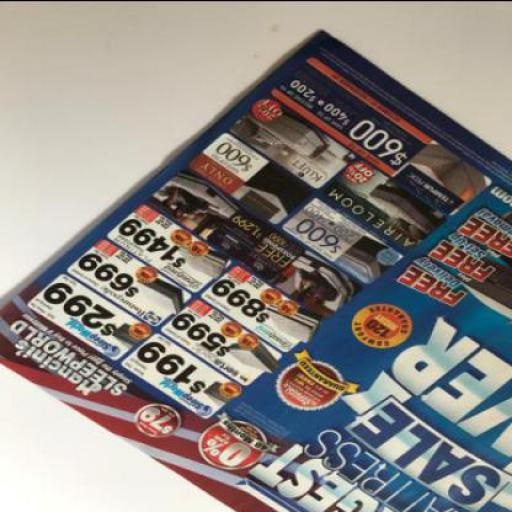paper: (0, 28, 511, 511)
